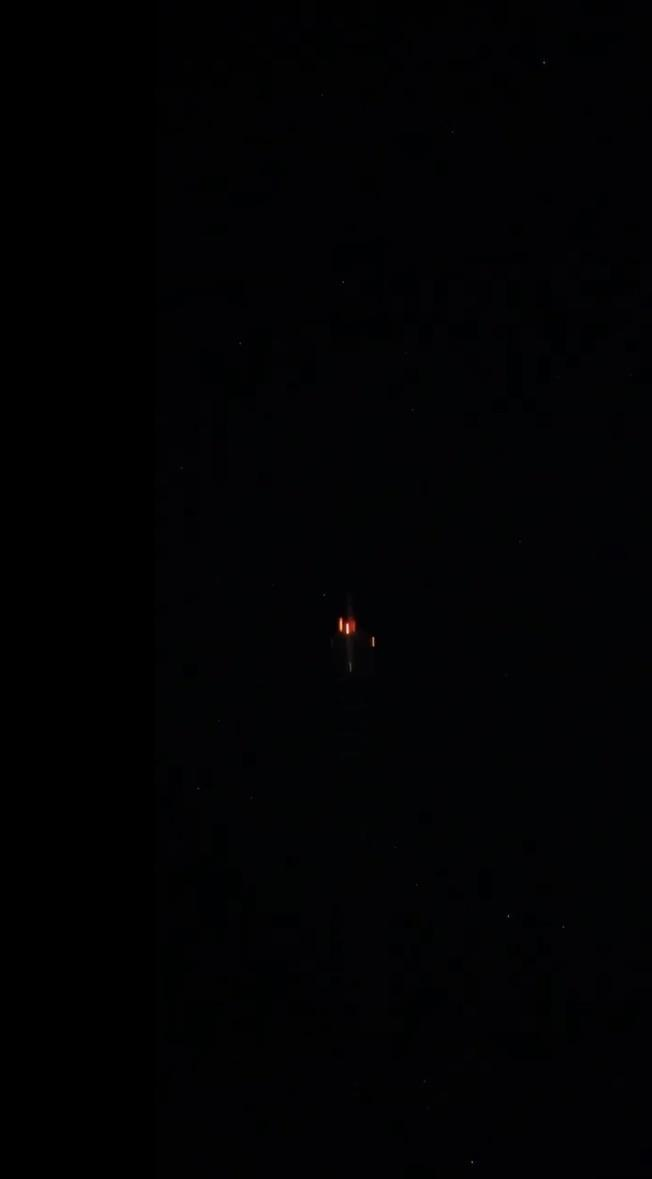Plane: (311, 571, 396, 700)
